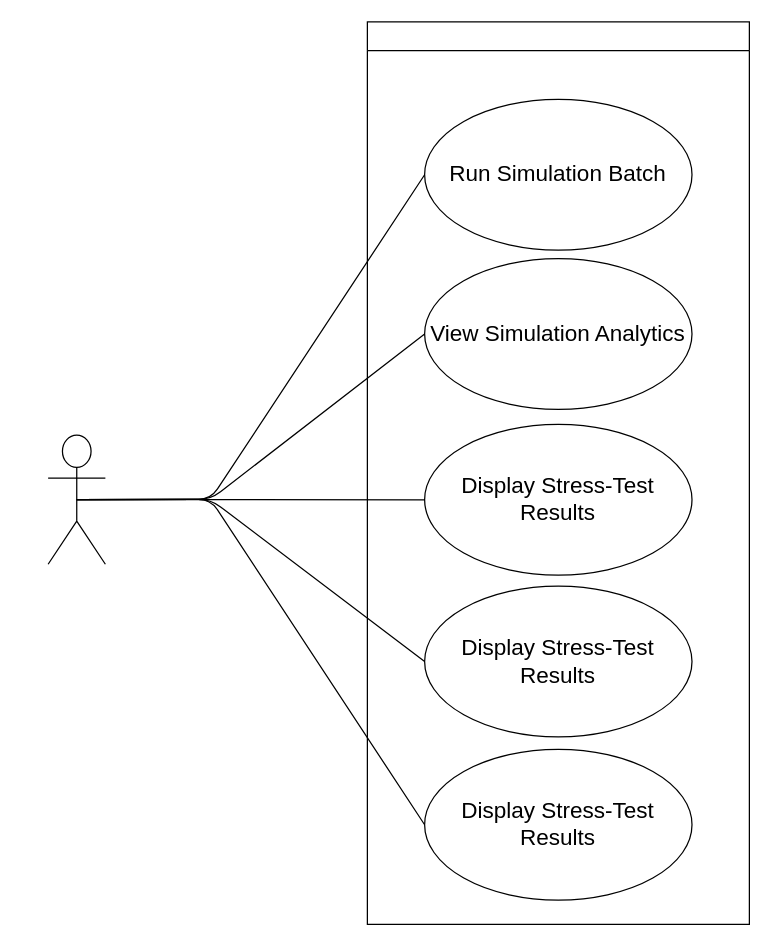
This 773x946 diagram has some shape labels left out. Each missing label, with the box of its shape:
Tyto Admin: (47, 434, 105, 564)
Tyto Simulation: (366, 21, 749, 924)
